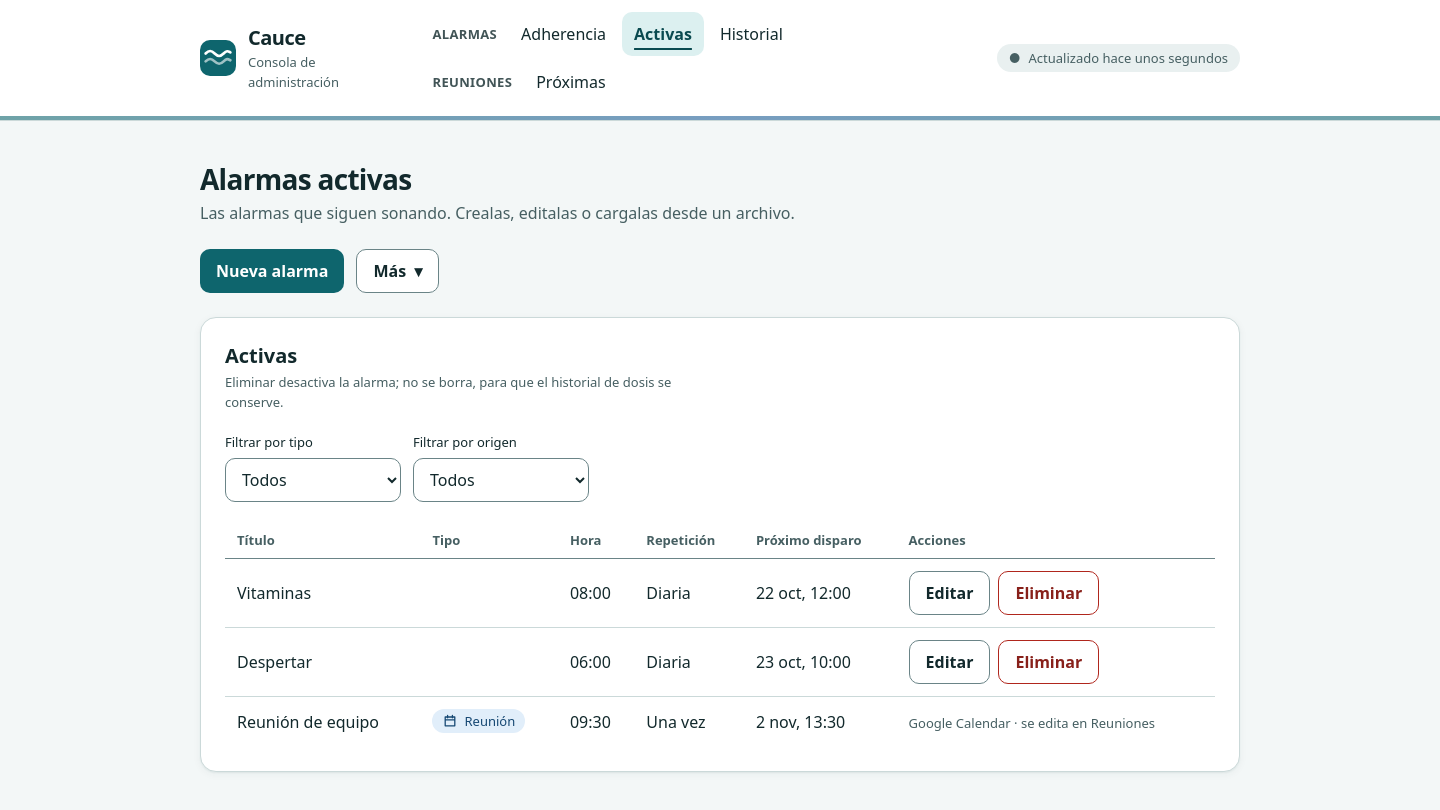
it: ActivasView (P1) › muestra el mensaje del 400 y no lo esconde
expect the table named "Alarmas activas" is shown: met, box x1=225 y1=522 x2=1215 y2=747
Click the button "Nueva alarma" at (272, 271), box x1=200 y1=249 x2=344 y2=293
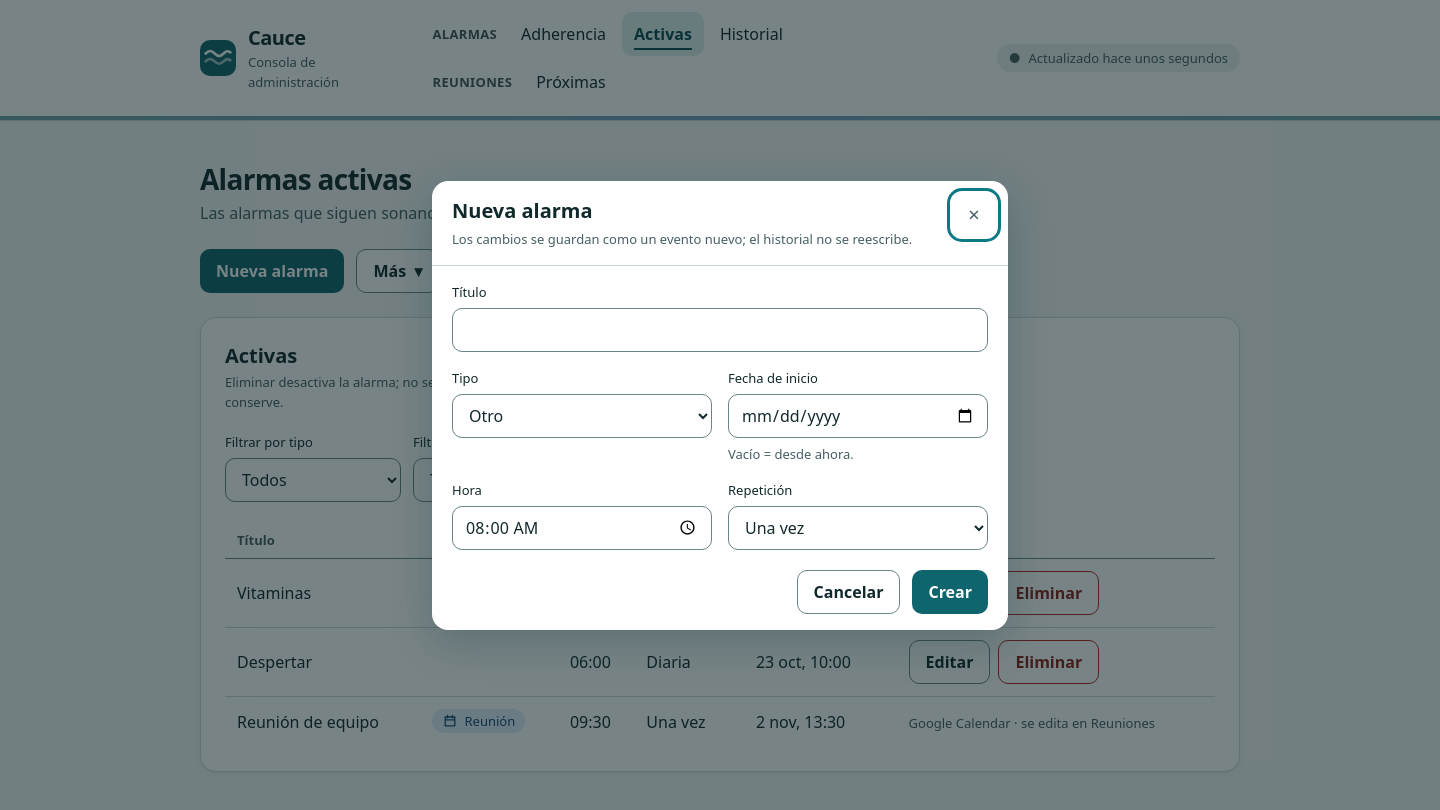
Type "Cierre" into the field labelled "Título" at (720, 330), box x1=452 y1=308 x2=988 y2=352
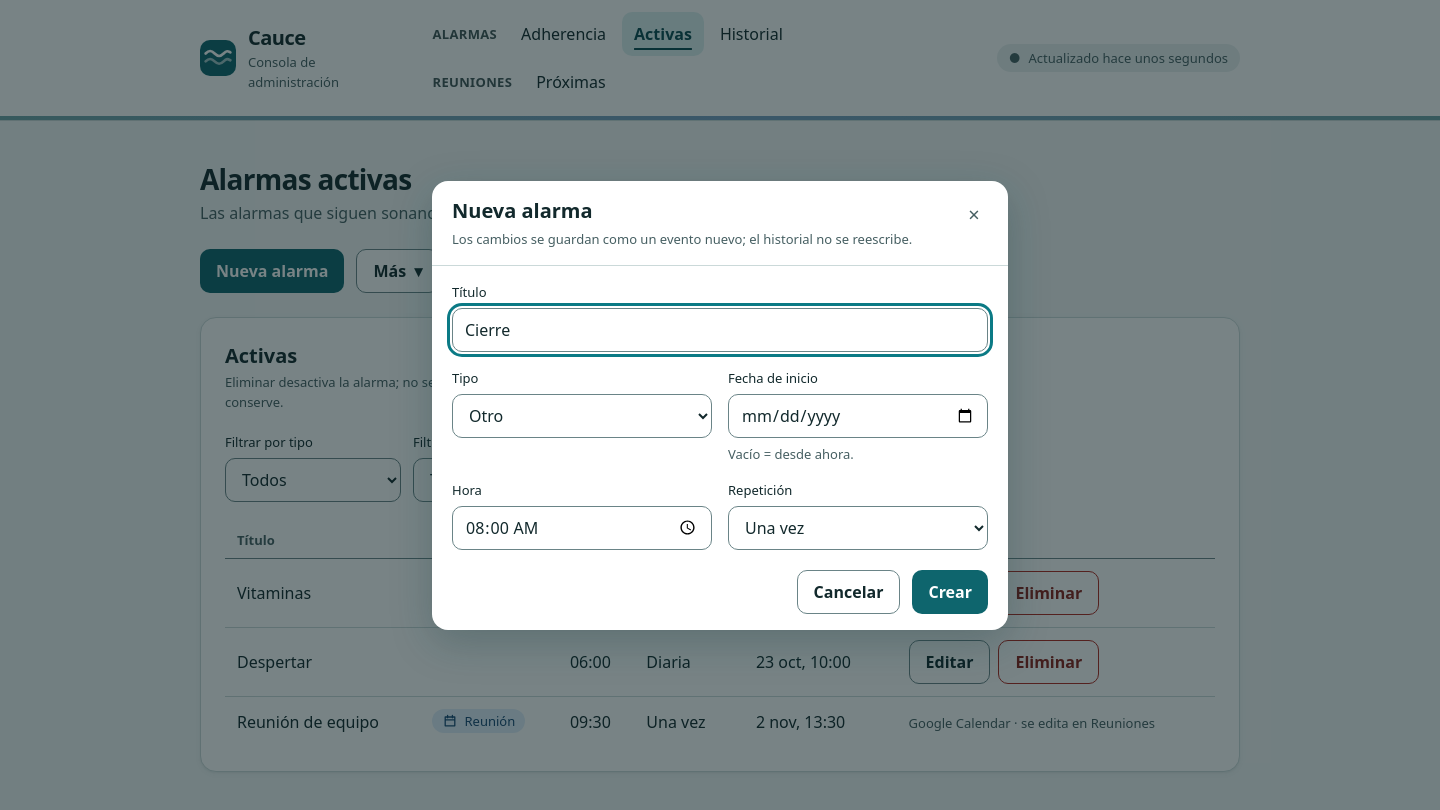
Click the button "Crear" at (950, 592), box x1=912 y1=570 x2=988 y2=614
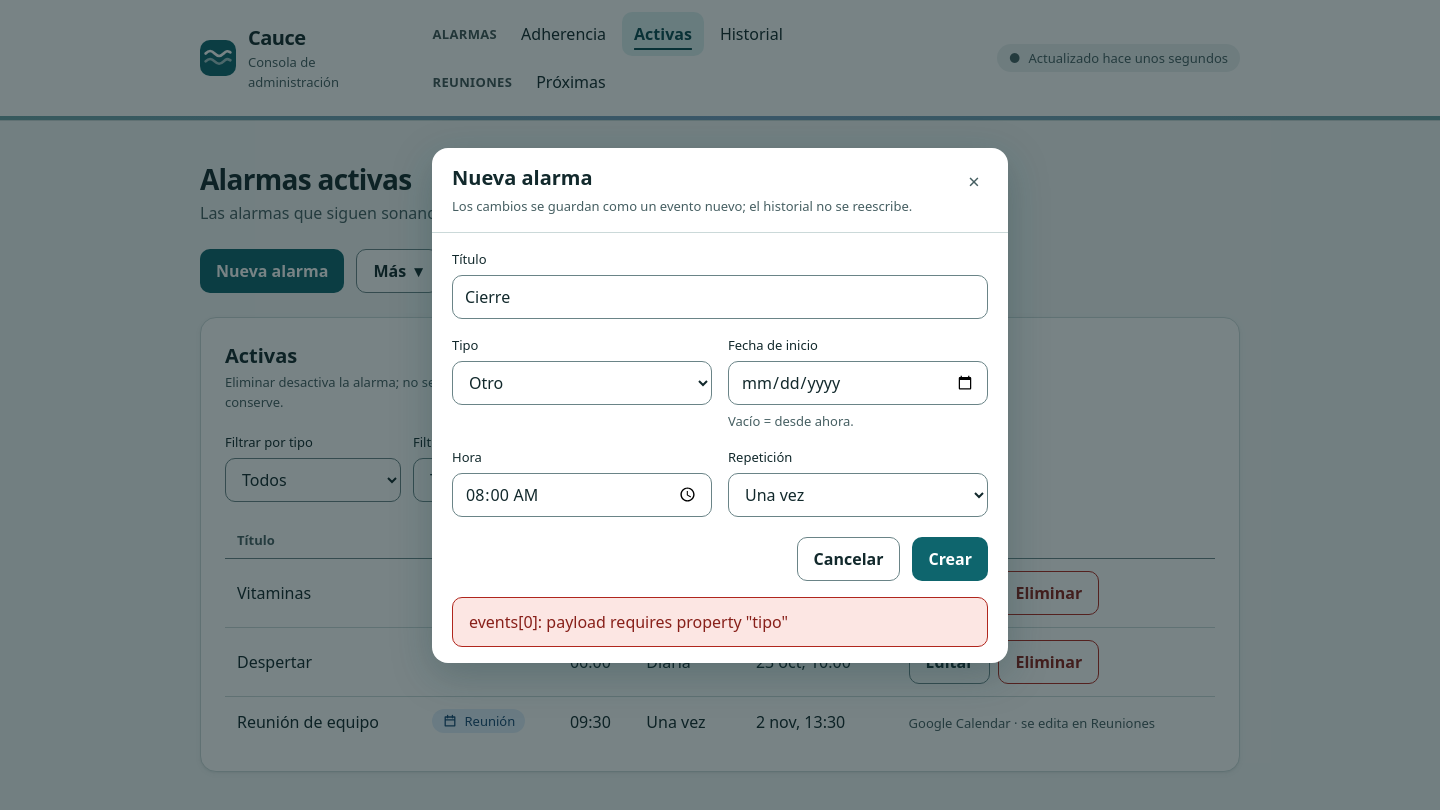
expect the message reads "events[0]: payload requires property \"tipo\"": met, box x1=469 y1=610 x2=788 y2=632
